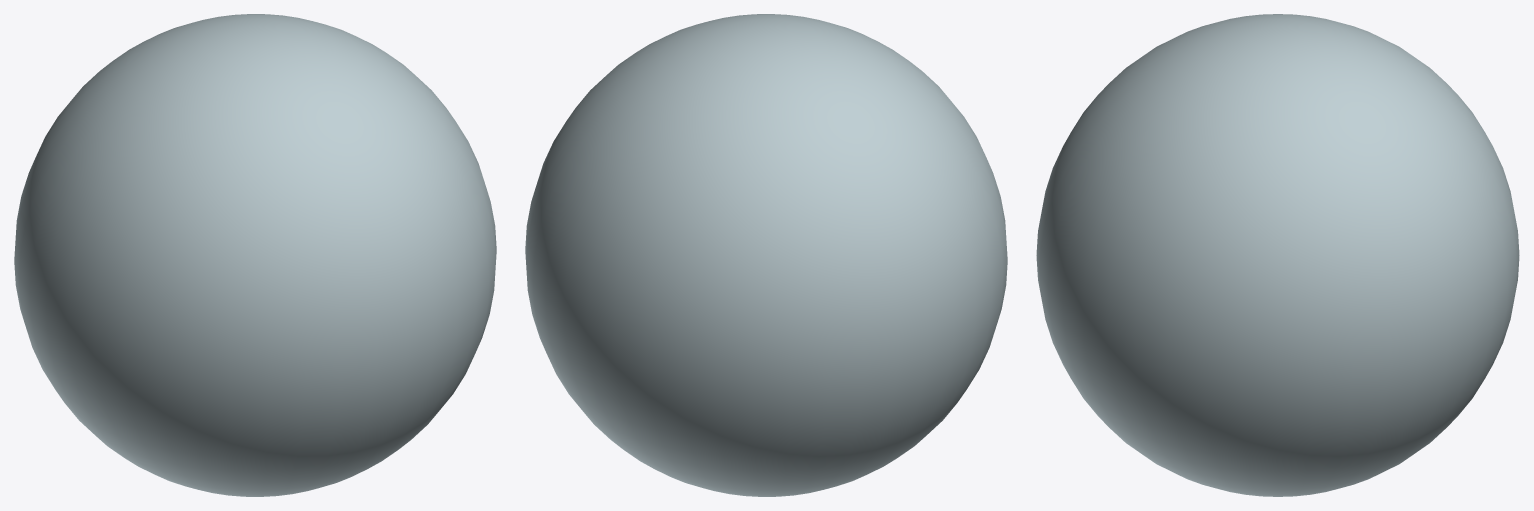
The model's file is syringe.glb.
3 renders of one model, left to right at view 1: azimuth 30°, elevation 25°; view 2: azimuth 150°, elevation 25°; view 3: azimuth 270°, elevation 25°, orthographic.
Visible parts, largest first — view 1: Group; view 2: Group; view 3: Group.
Boxes of the visible parts, bbox=[...] form: Group: bbox=[14, 14, 496, 496]; Group: bbox=[525, 14, 1007, 496]; Group: bbox=[1036, 14, 1519, 496].
Size of the model in its own units: 2 by 2 by 2.
